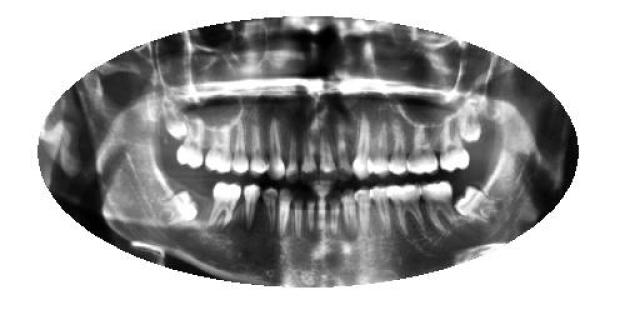Restorations: (453, 185, 502, 227), (160, 189, 200, 230)
